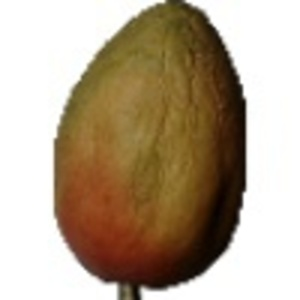mamão: (45, 4, 251, 282)
